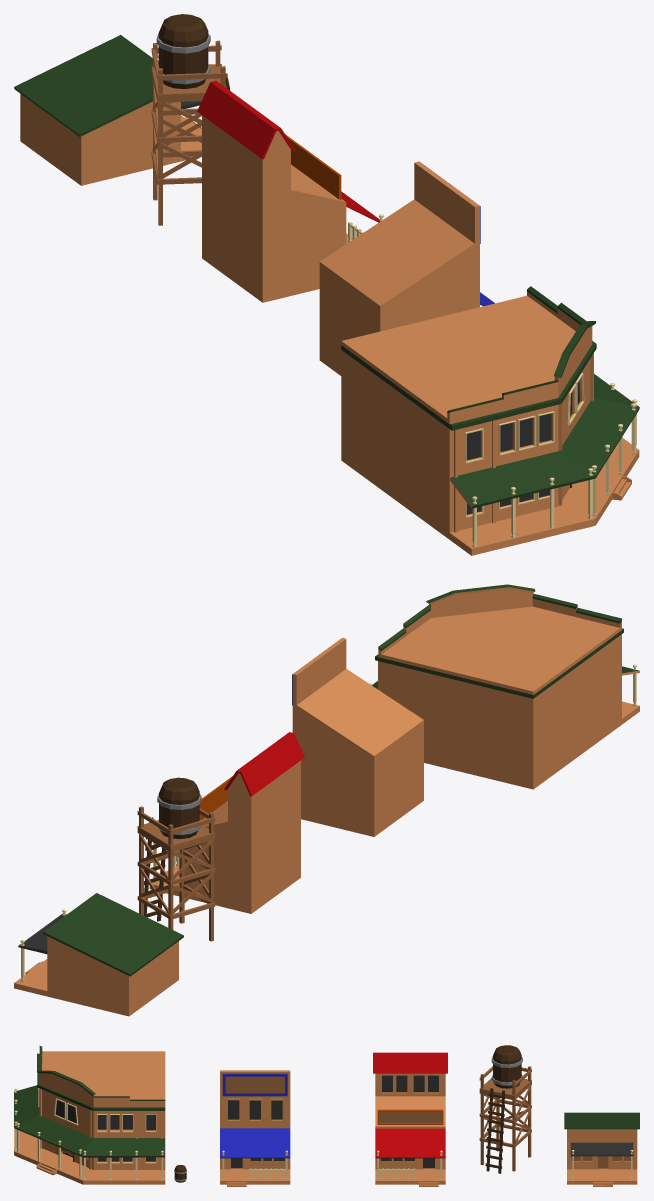
The model's file is Western city sahne for unity.fbx.
3 renders of one model, top to bottom at view 1: azimuth 30°, elevation 25°; view 2: azimuth 150°, elevation 25°; view 3: azimuth 270°, elevation 25°, orthographic. The views are drawn at different scales.
Visible parts, largest first — view 1: Cube, Cube.010, Cube.006, Cube.017, Cube.015, Cylinder, Cube.023, Cube.002, Cube.003; view 2: Cube, Cube.006, Cube.010, Cube.017, Cube.015, Cylinder, Cube.023; view 3: Cube, Cube.010, Cube.006, Cube.017, Cube.015, Cylinder, Plane, Cube.023, Cube.003, Cube.001, Cube.008.
Part boxes in pixels (box(x1,y1,x2,y2)): Cube: box(341, 286, 639, 555); Cube.010: box(197, 80, 380, 302); Cube.006: box(319, 161, 494, 375); Cube.017: box(14, 35, 201, 185); Cube.015: box(151, 40, 227, 225); Cylinder: box(156, 14, 210, 88); Cube.023: box(152, 80, 201, 179); Cube.002: box(472, 468, 592, 547); Cube.003: box(592, 403, 636, 516); Cube: box(372, 584, 639, 789); Cube.006: box(292, 638, 423, 836); Cube.010: box(149, 732, 304, 913); Cube.017: box(14, 893, 183, 1016); Cube.015: box(137, 806, 215, 941); Cylinder: box(157, 777, 201, 838); Cube.023: box(139, 833, 213, 914); Cube: box(14, 1045, 165, 1184); Cube.010: box(373, 1052, 447, 1186); Cube.006: box(220, 1070, 290, 1186); Cube.017: box(564, 1112, 639, 1186); Cube.015: box(479, 1066, 531, 1171); Cylinder: box(491, 1045, 522, 1088); Plane: box(485, 1088, 505, 1173); Cube.023: box(484, 1086, 530, 1143); Cube.003: box(17, 1123, 81, 1178); Cube.001: box(83, 1150, 163, 1180); Cube.008: box(249, 1168, 282, 1180).
Size of the model in its own units: 4.94 by 3.84 by 19.73.
